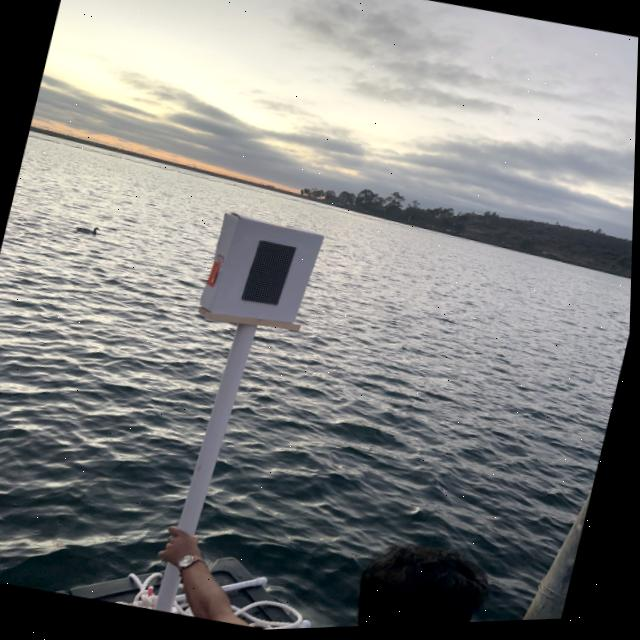led: (212, 218, 311, 324)
